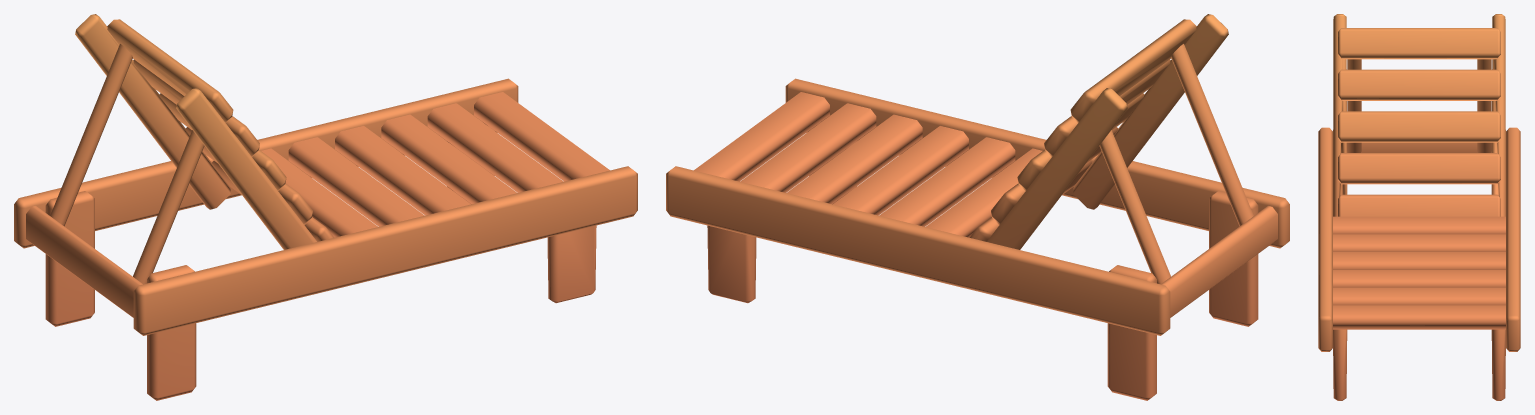
The model's file is Furniture_Sofa_01.fbx.
The picture shows the model from 3 angles, left to right: view 1: azimuth 30°, elevation 25°; view 2: azimuth 150°, elevation 25°; view 3: azimuth 270°, elevation 25°; orthographic projection. The views are drawn at different scales.
Parts seen in each view (by area): view 1: Furniture_Sofa_01; view 2: Furniture_Sofa_01; view 3: Furniture_Sofa_01.
Part boxes in pixels (x1,y1,x2,y2): Furniture_Sofa_01: (14,14,637,400); Furniture_Sofa_01: (666,14,1289,400); Furniture_Sofa_01: (1318,14,1520,400).
Bounding box in the file's own units: 200 × 115 × 89.39.
